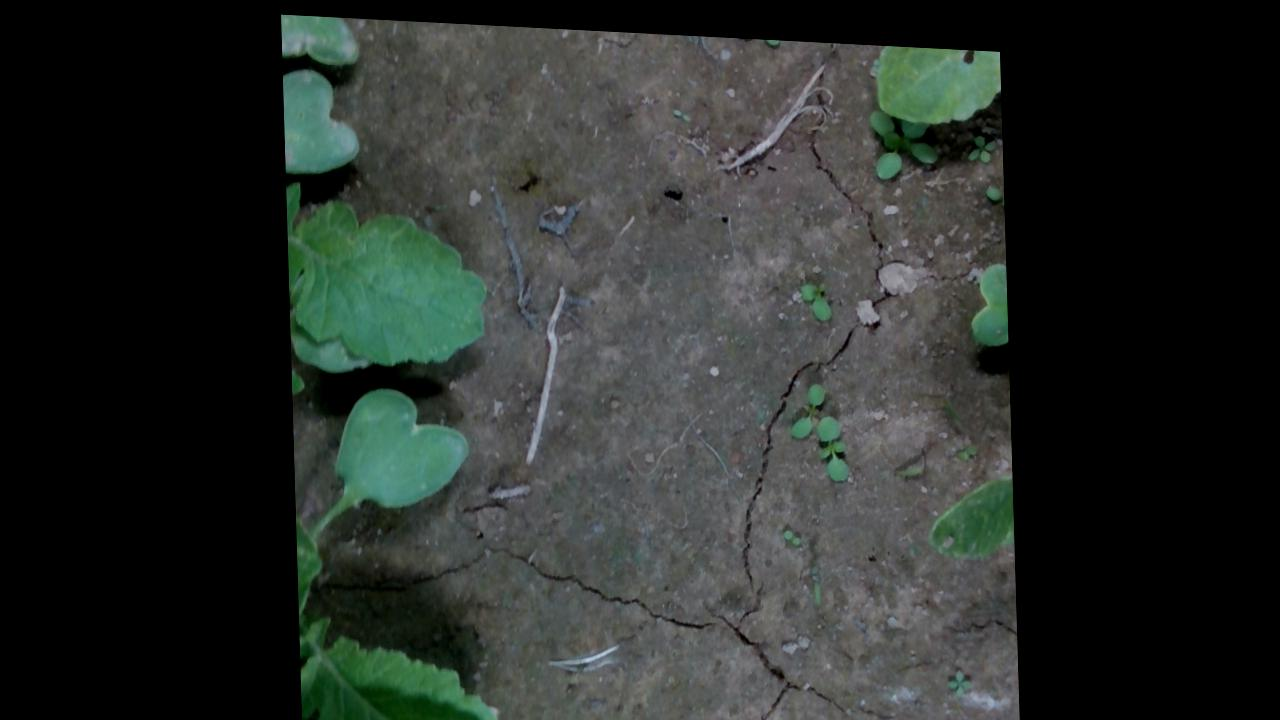weed: (797, 267, 831, 313), (941, 654, 970, 689), (807, 550, 820, 599), (779, 517, 800, 538)
